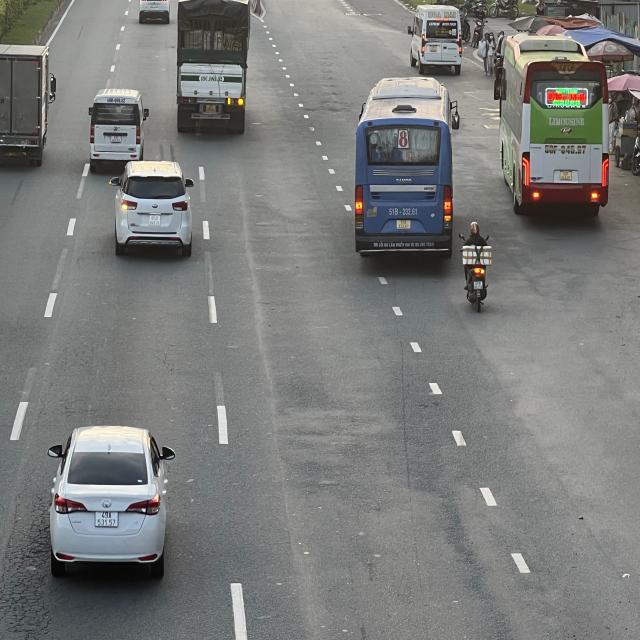car: (50, 425, 176, 579), (110, 162, 194, 260)
coach: (499, 33, 613, 215), (356, 77, 456, 260)
truck: (176, 1, 252, 134), (0, 44, 56, 164)
van: (86, 90, 150, 166), (407, 3, 464, 71)
